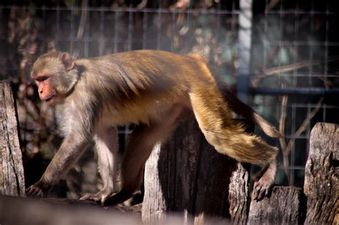monkey: (19, 27, 283, 225)
